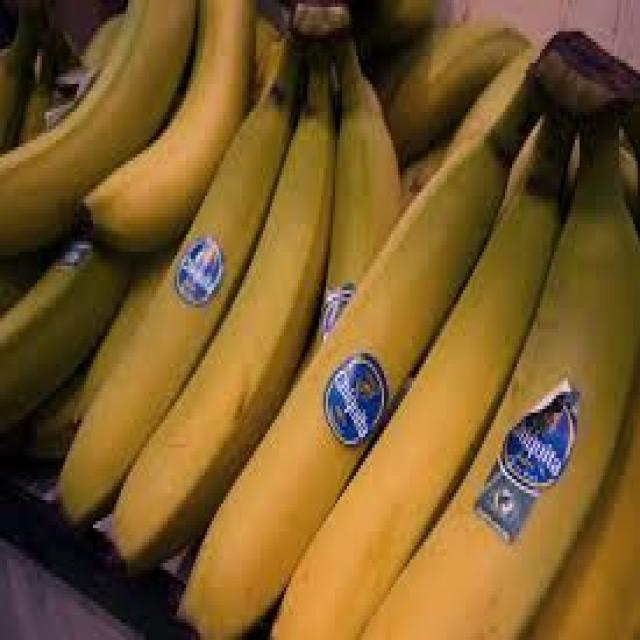banana: (179, 29, 640, 640), (72, 6, 406, 570), (1, 3, 256, 414), (401, 14, 524, 156)
